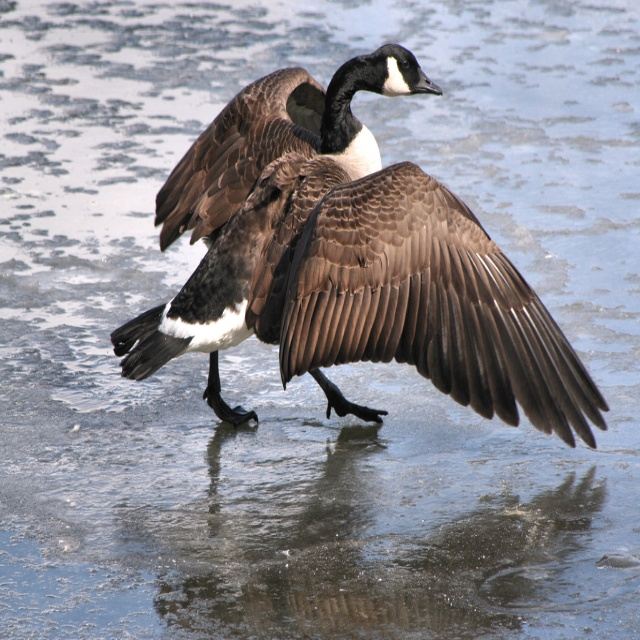Duck: (110, 43, 610, 449)
